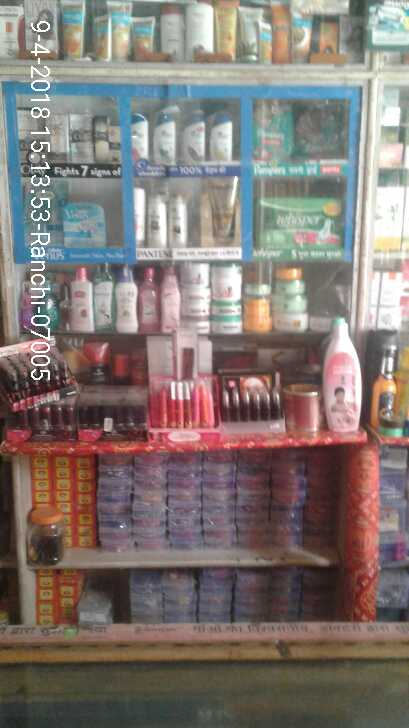venus: (25, 179, 64, 246), (64, 202, 106, 247)
